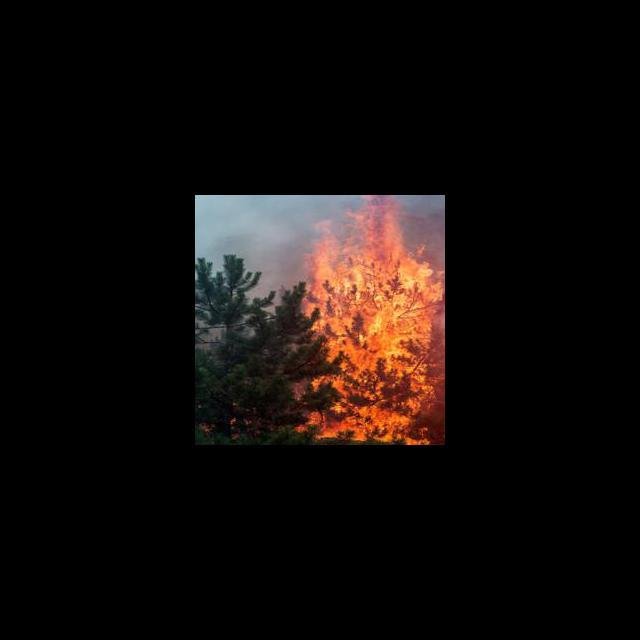Fire: (291, 195, 445, 444)
